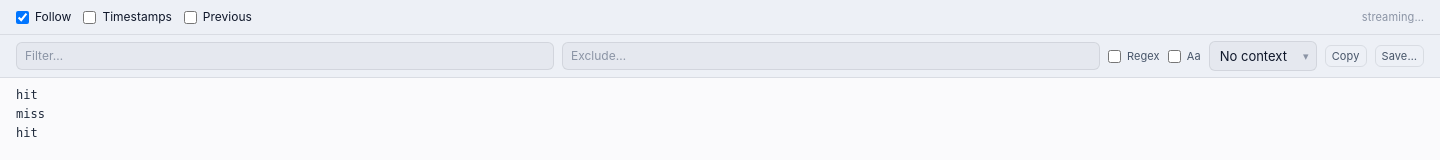
Test: LogViewer › counts the matches against what it is holding
Expected: the text "miss" is shown, [16,107,45,121]
Type "hit" into the field named "Filter lines" at x=285, y=56, box [16,42,554,70]
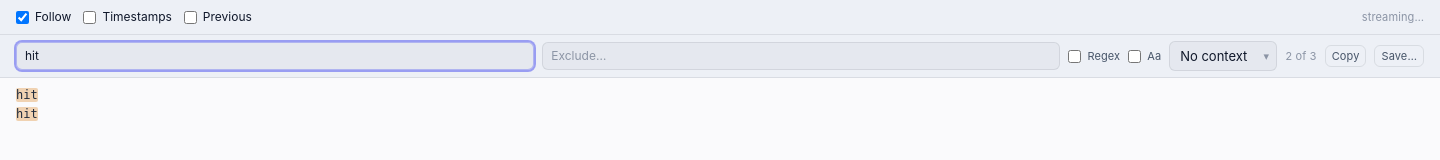
Expected: the text "2 of 3" is shown, [1285,48,1317,64]
